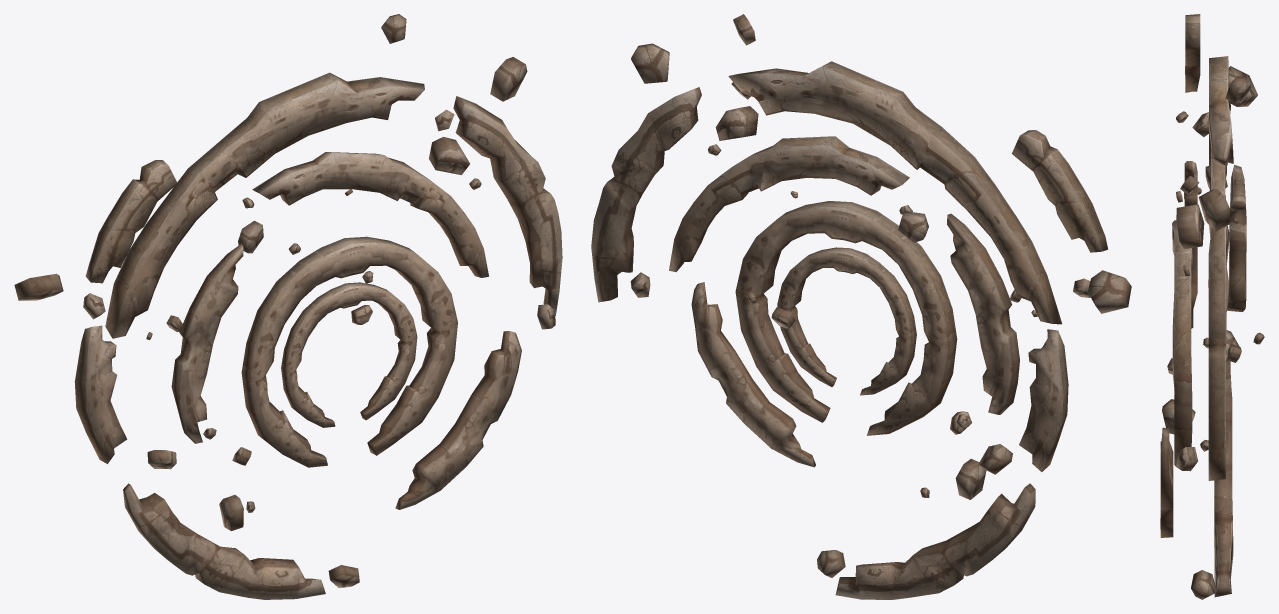
3 views of the same model, side by side, from view 1: azimuth 30°, elevation 25°; view 2: azimuth 150°, elevation 25°; view 3: azimuth 270°, elevation 25° (orthographic). The views are drawn at different scales.
Parts seen in each view (by area): view 1: 2, 3, UB309, 1, Editable Poly (×4); view 2: 2, UB309, 3, 1, Editable Poly (×5); view 3: 2, Editable Poly (×11), UB309, 3, 1.
Part boxes in pixels (<box>): 2: <box>85,96,562,599</box>; 3: <box>105,72,521,509</box>; UB309: <box>241,236,457,467</box>; 1: <box>74,152,488,463</box>; Editable Poly (×4): <box>14,57,527,530</box>; 2: <box>591,87,1108,599</box>; UB309: <box>735,201,957,435</box>; 3: <box>691,61,1061,467</box>; 1: <box>669,136,1068,471</box>; Editable Poly (×5): <box>631,43,1131,499</box>; 2: <box>1184,14,1233,597</box>; Editable Poly (×11): <box>1162,66,1257,599</box>; UB309: <box>1172,220,1193,466</box>; 3: <box>1160,56,1233,537</box>; 1: <box>1208,152,1246,344</box>.
Size of the model in its own units: 135 by 133 by 22.42.
